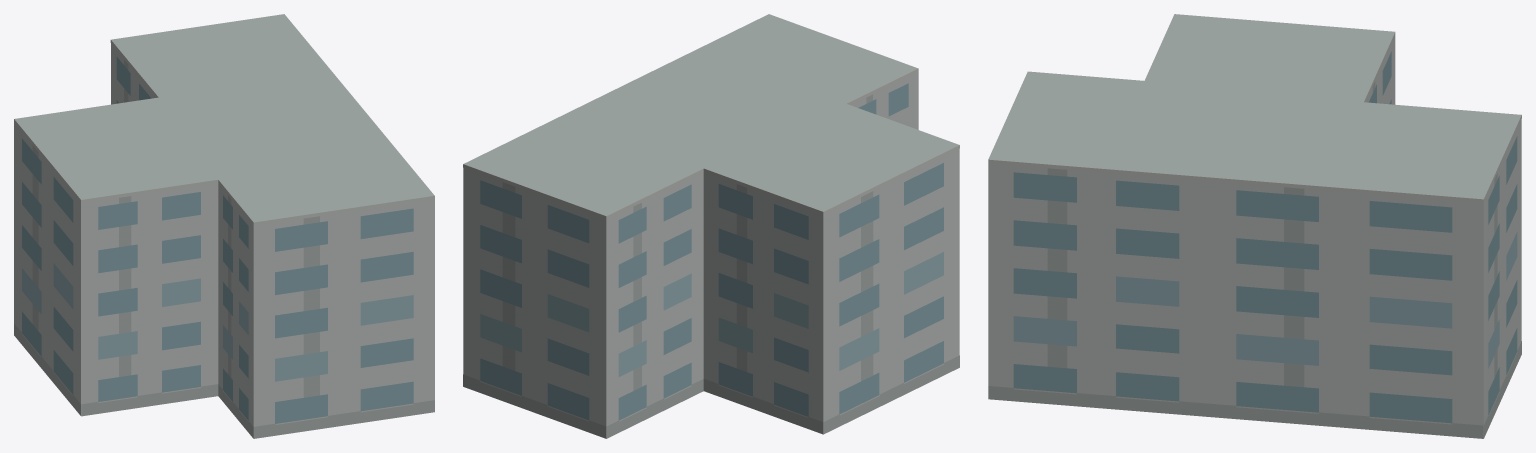
Rendered from residential-b160b422-6907-4026-98c5-eae198c9ac77.glb.
3 renders of one model, left to right at view 1: azimuth 30°, elevation 25°; view 2: azimuth 150°, elevation 25°; view 3: azimuth 270°, elevation 25°, orthographic. The views are drawn at different scales.
Parts seen in each view (by area): view 1: residential-b160b422-6907-4026-98c5-eae198c9ac77.tmp; view 2: residential-b160b422-6907-4026-98c5-eae198c9ac77.tmp; view 3: residential-b160b422-6907-4026-98c5-eae198c9ac77.tmp.
Part boxes in pixels (x1,y1,x2,y2): residential-b160b422-6907-4026-98c5-eae198c9ac77.tmp: (14, 14, 434, 438); residential-b160b422-6907-4026-98c5-eae198c9ac77.tmp: (463, 14, 959, 438); residential-b160b422-6907-4026-98c5-eae198c9ac77.tmp: (988, 14, 1521, 438).
Size of the model in its own units: 25.31 by 15.25 by 30.79.
